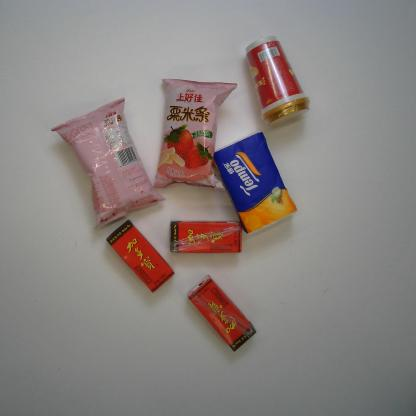Drink: (185, 273, 257, 353), (105, 218, 176, 295), (169, 219, 244, 255)
Instant Drink: (244, 34, 312, 130)
Puffed Food: (50, 96, 166, 231), (151, 77, 239, 193)
Tissue: (213, 131, 298, 236)
